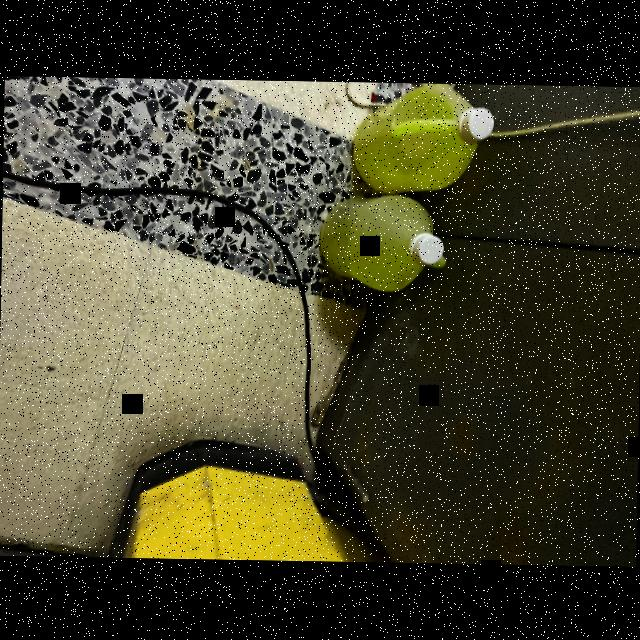chemical_plastic_gallon: (342, 80, 502, 196), (304, 185, 453, 297)
